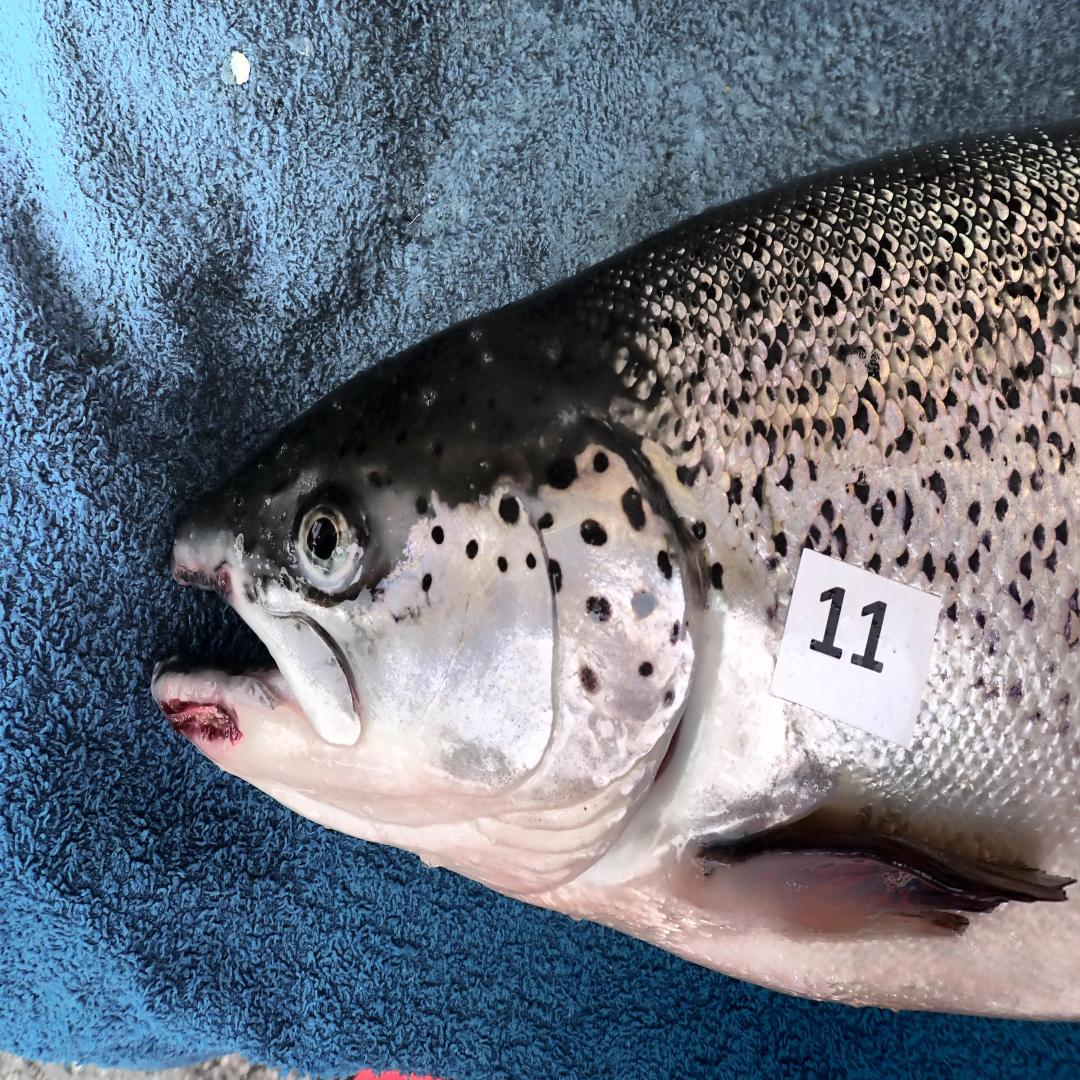spot: (622, 487, 645, 529), (580, 520, 608, 546), (586, 596, 612, 622), (633, 591, 656, 619), (498, 495, 519, 523), (656, 551, 673, 579), (580, 667, 599, 692), (548, 560, 561, 593), (593, 453, 610, 472), (430, 526, 445, 546), (466, 540, 479, 560), (538, 512, 553, 529), (639, 661, 654, 678), (671, 622, 681, 644), (664, 689, 675, 706), (422, 574, 432, 591), (525, 554, 536, 568), (498, 557, 508, 571)
